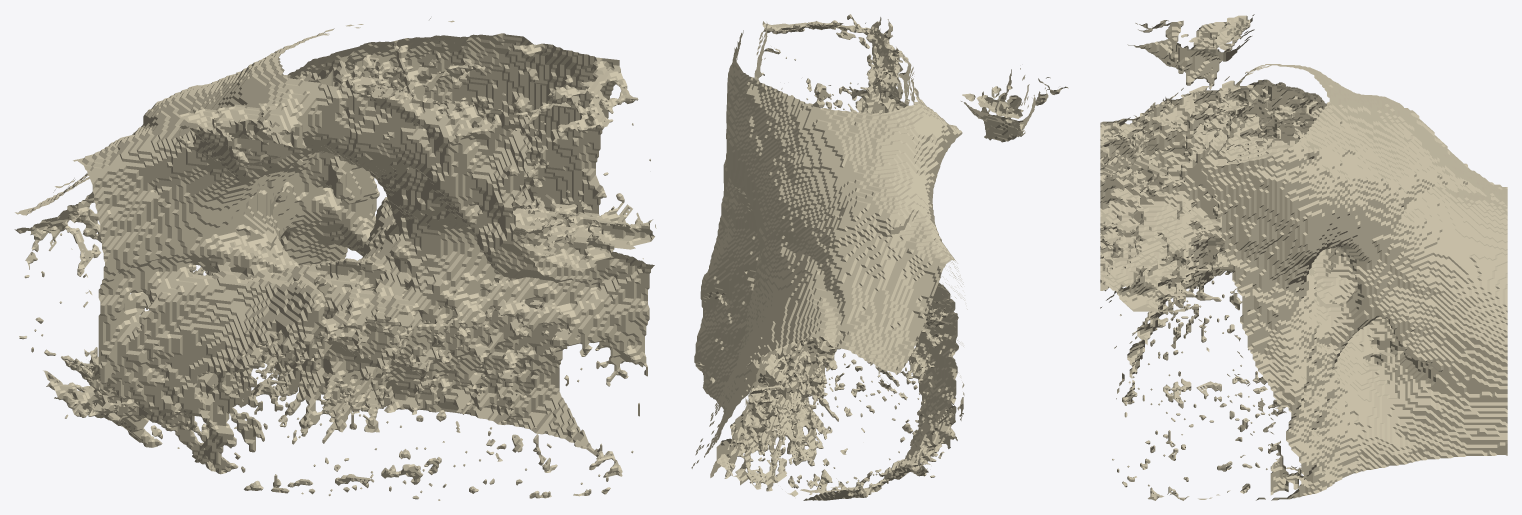
The model's file is skull-cranial-channels.glb.
3 renders of one model, left to right at view 1: azimuth 30°, elevation 25°; view 2: azimuth 150°, elevation 25°; view 3: azimuth 270°, elevation 25°, orthographic. The views are drawn at different scales.
Visible parts, largest first — view 1: channels|halle_hypoglossal; view 2: channels|halle_hypoglossal; view 3: channels|halle_hypoglossal.
Boxes of the visible parts, <box> form: channels|halle_hypoglossal: <box>14,18,656,500</box>; channels|halle_hypoglossal: <box>691,14,1068,500</box>; channels|halle_hypoglossal: <box>1100,14,1507,500</box>.
Bounding box in the file's own units: 0.0179 × 0.0179 × 0.0199.
